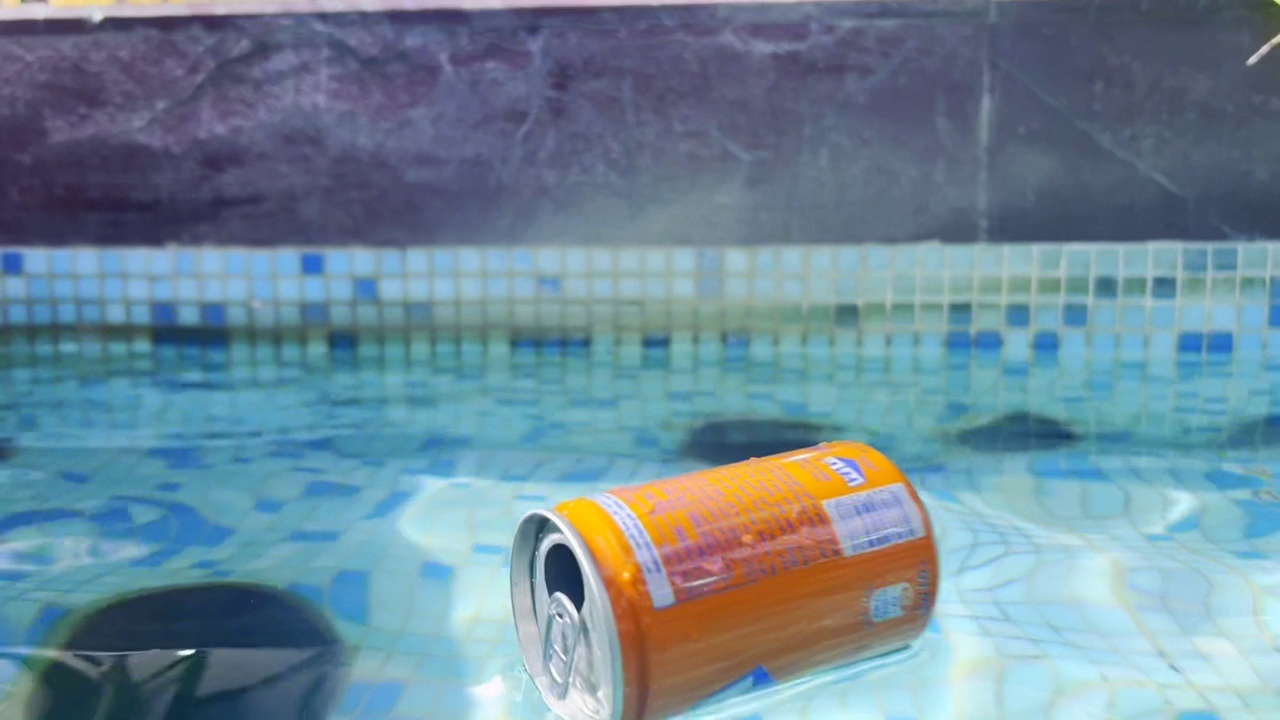debris: (480, 426, 949, 720)
